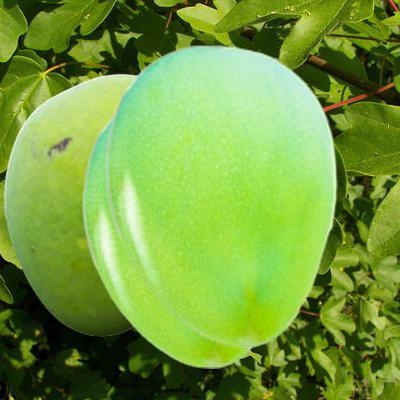green_mango: (104, 44, 336, 346), (81, 111, 256, 367), (3, 73, 136, 335)
